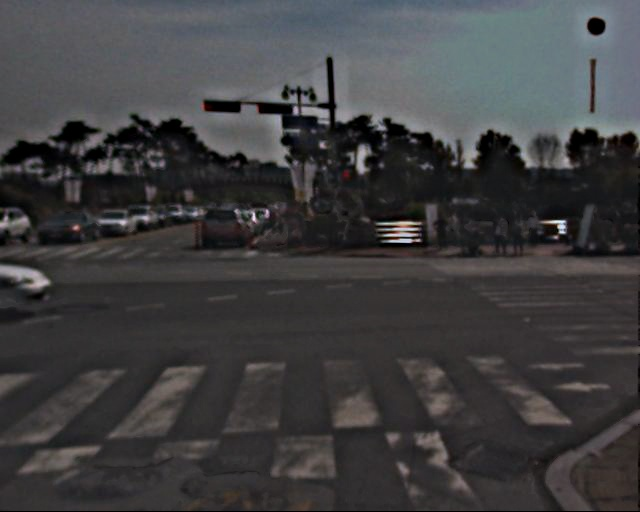person: (273, 204, 315, 247), (507, 209, 528, 259), (328, 205, 348, 253), (492, 214, 510, 259), (460, 211, 478, 255), (447, 207, 465, 251), (435, 208, 453, 251), (527, 211, 543, 251)
